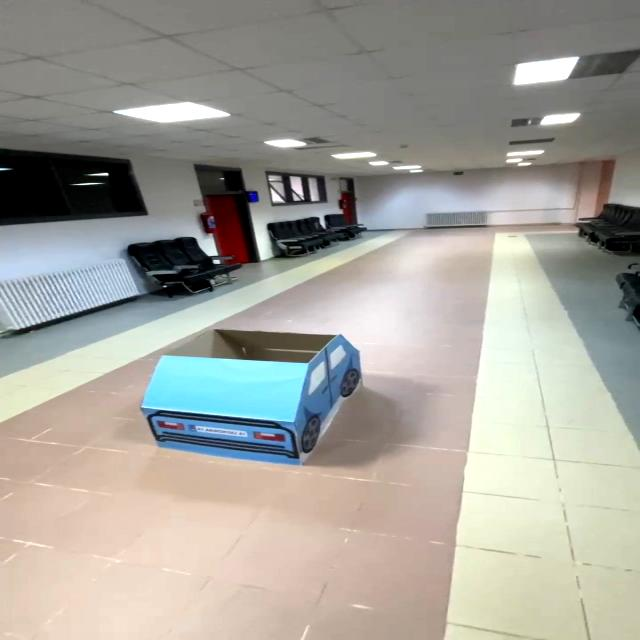blue_car: (109, 315, 381, 486)
